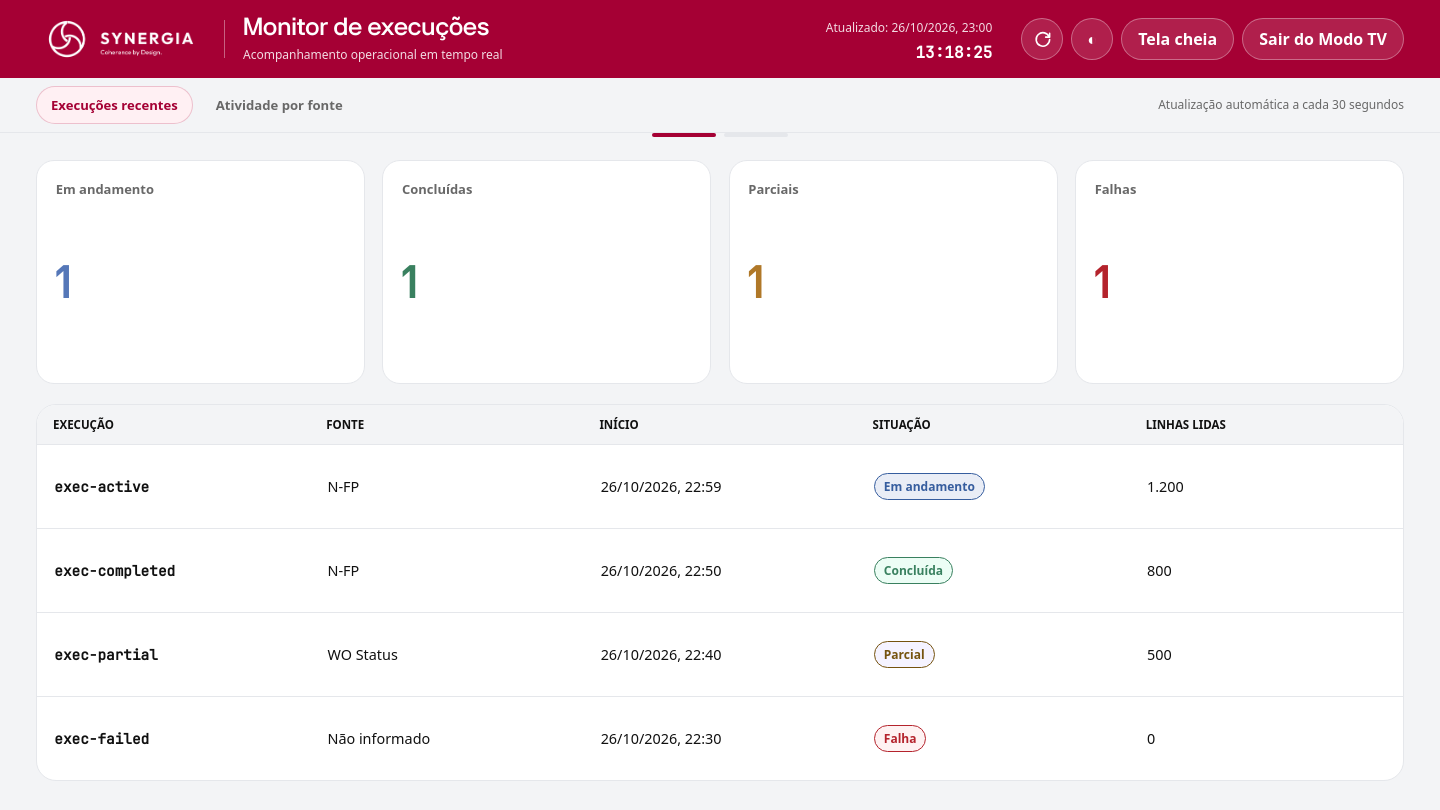
Test: TvMonitorComponent › keeps the last snapshot visible when a later refresh fails
Click the button with class "tv-refresh" at (1042, 39), box left=1021, top=18, right=1063, bottom=60
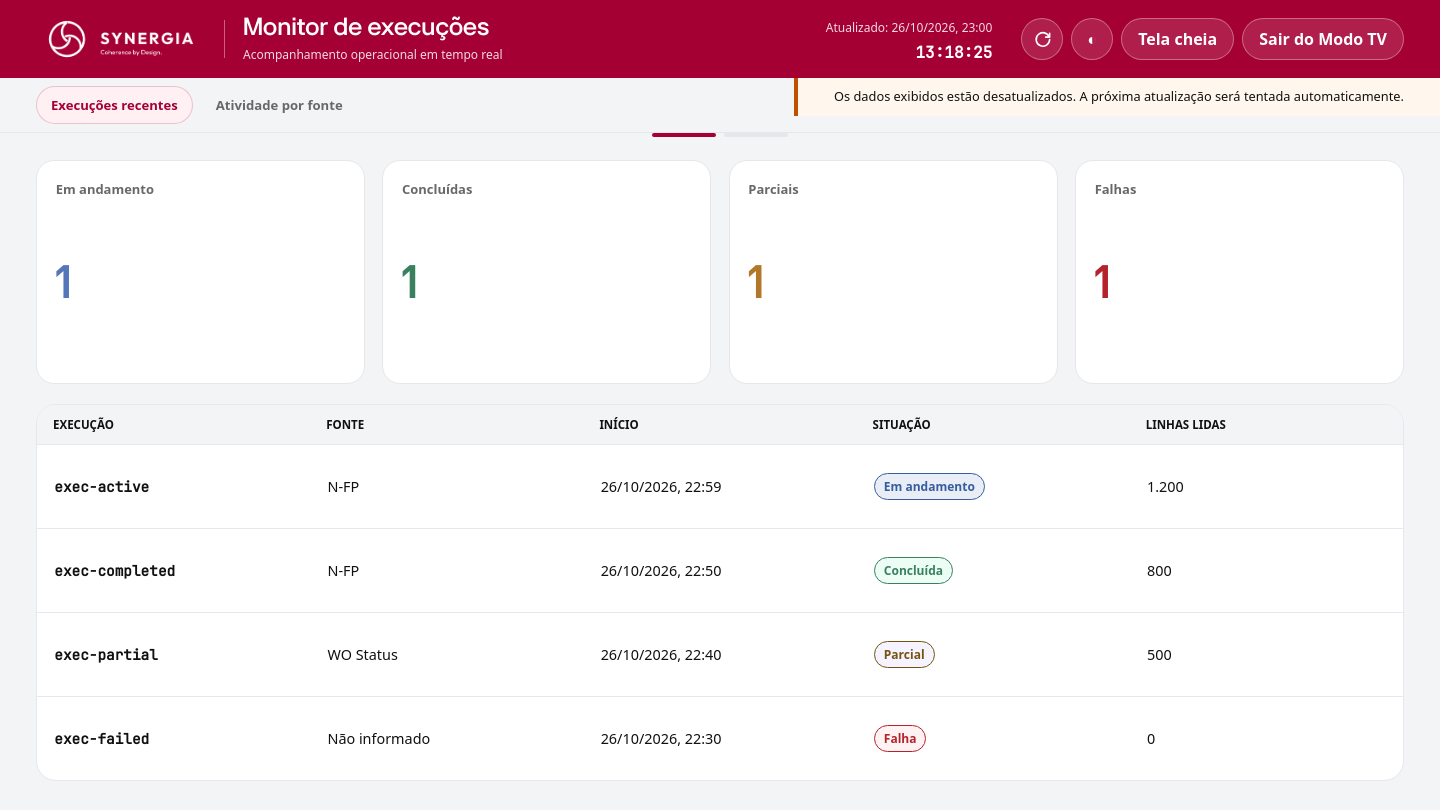
Expected: the text "exec-active" is shown, left=37, top=444, right=310, bottom=528
Expected: the message shows "desatualizados", left=834, top=87, right=1404, bottom=105
